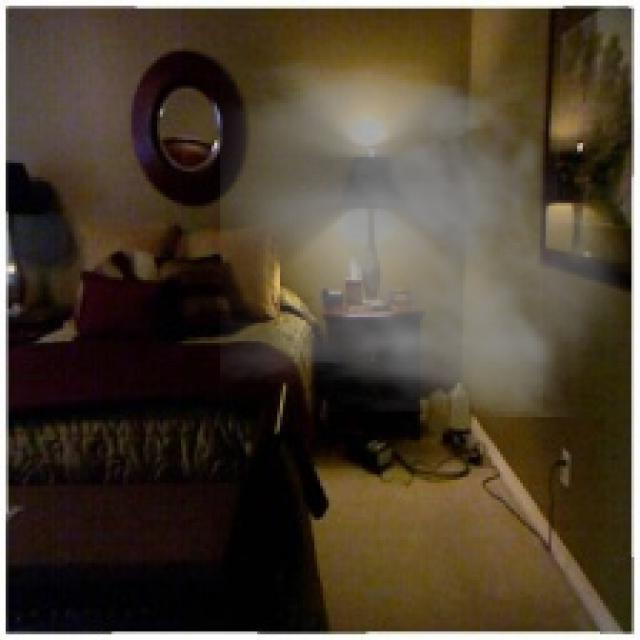smoke: (220, 60, 637, 417)
